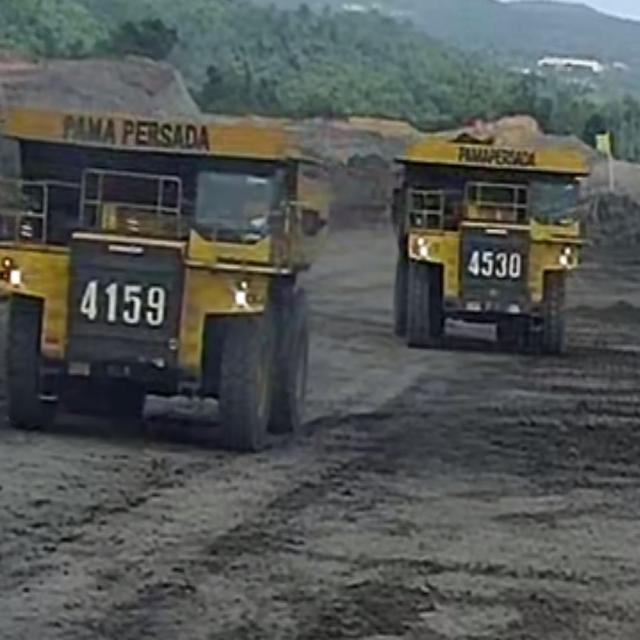dump_truck: (387, 138, 593, 356)
